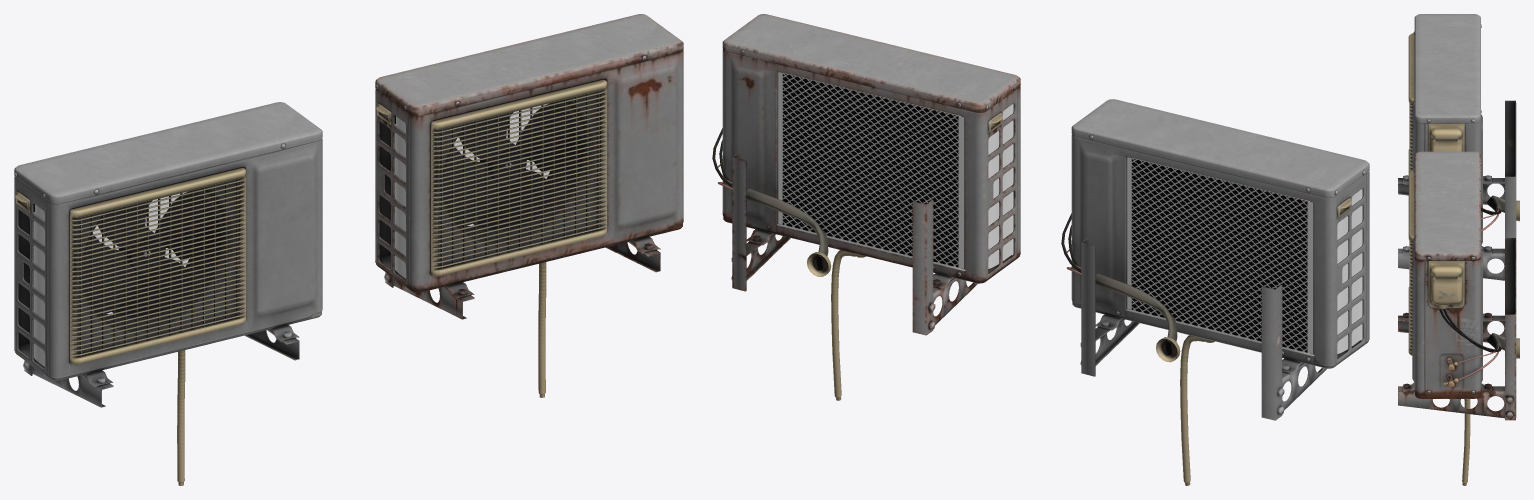
File: exterior_aircon_unit_1k.glb
The picture shows the model from 3 angles, left to right: view 1: azimuth 30°, elevation 25°; view 2: azimuth 150°, elevation 25°; view 3: azimuth 270°, elevation 25°; orthographic projection. The views are drawn at different scales.
Parts seen in each view (by area): view 1: exterior_aircon_unit_rusted, exterior_aircon_unit; view 2: exterior_aircon_unit, exterior_aircon_unit_rusted; view 3: exterior_aircon_unit_rusted, exterior_aircon_unit.
Boxes of the visible parts, x1,y1,x2,y2 form: exterior_aircon_unit_rusted: (375, 14, 683, 397); exterior_aircon_unit: (14, 102, 322, 485); exterior_aircon_unit: (1061, 99, 1369, 485); exterior_aircon_unit_rusted: (712, 14, 1020, 400); exterior_aircon_unit_rusted: (1398, 151, 1519, 485); exterior_aircon_unit: (1398, 14, 1519, 280).
Size of the model in its own units: 1.8 by 0.9279 by 0.3742.
4 materials, 4 textured.
